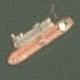ship: (0, 0, 35, 29)
